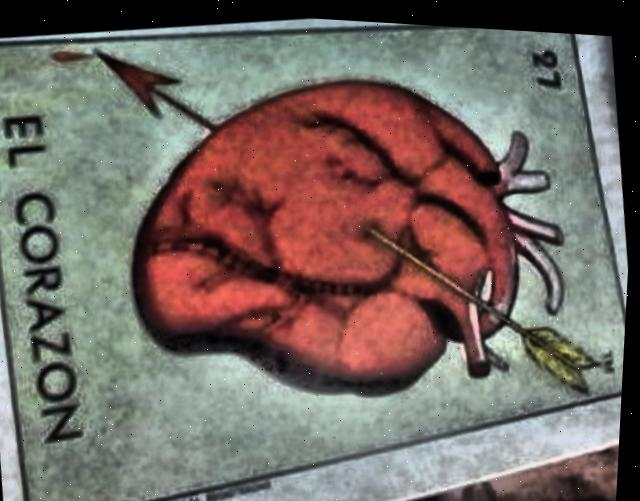El Corazon: (0, 20, 628, 501)
